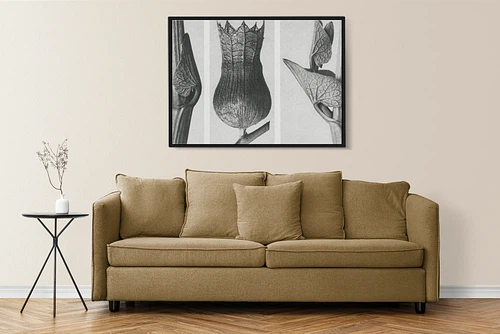flower vase: (34, 135, 71, 214)
side table: (19, 212, 89, 320)
sofa: (88, 167, 442, 315)
wall art: (165, 13, 347, 149)
